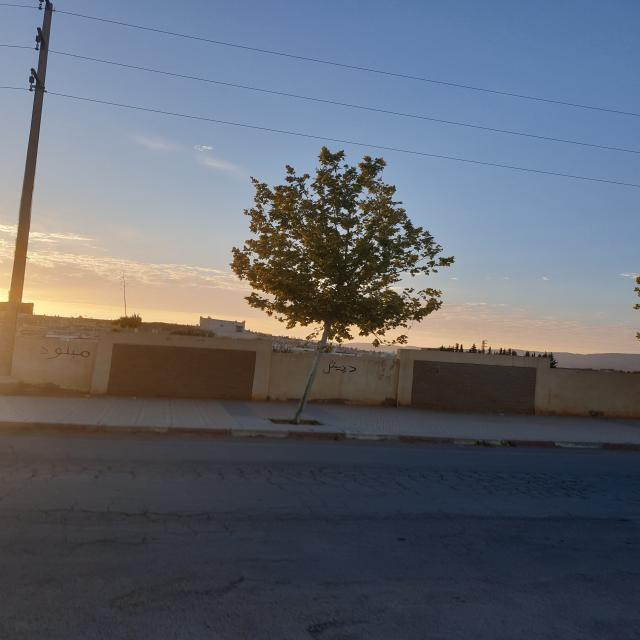Tree: (231, 147, 454, 421)
